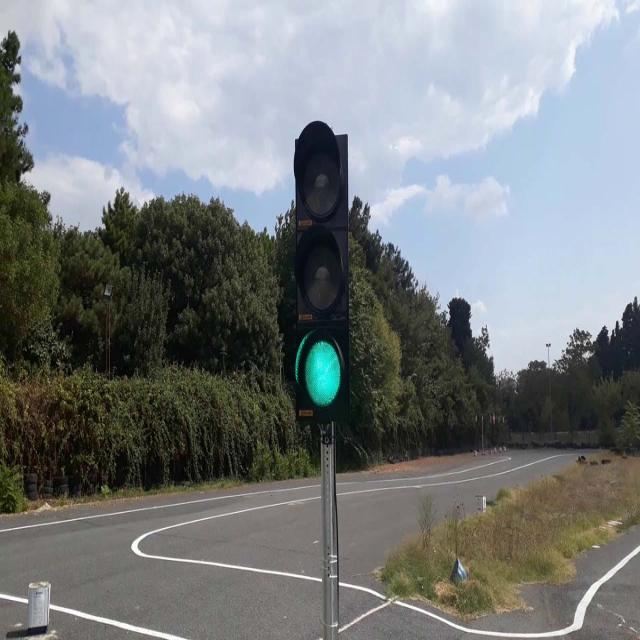yesil: (295, 125, 347, 416)
